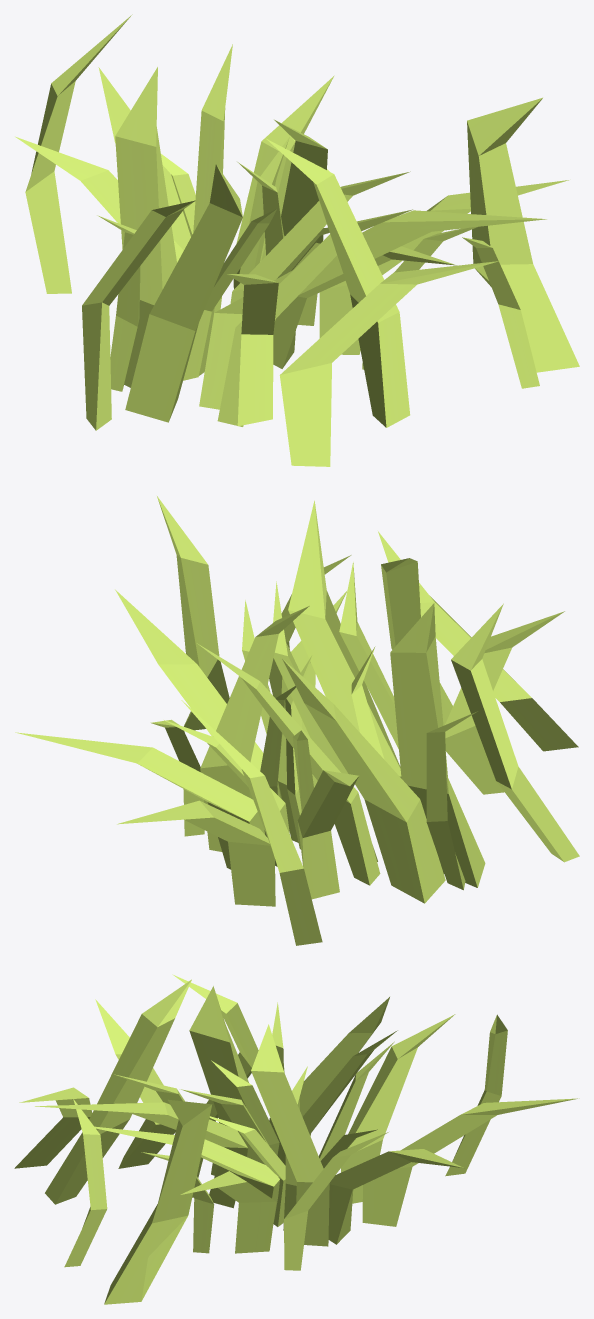
Rendered from grass4.fbx.
3 views of the same model, one above another, from view 1: azimuth 30°, elevation 25°; view 2: azimuth 150°, elevation 25°; view 3: azimuth 270°, elevation 25° (orthographic). The views are drawn at different scales.
Parts seen in each view (by area): view 1: Cone.004; view 2: Cone.004; view 3: Cone.004.
Part boxes in pixels (box(x1,y1,x2,y2)): Cone.004: box(15, 14, 579, 466); Cone.004: box(15, 496, 579, 945); Cone.004: box(14, 974, 579, 1304).
Bounding box in the file's own units: 95.78 × 53.69 × 118.
